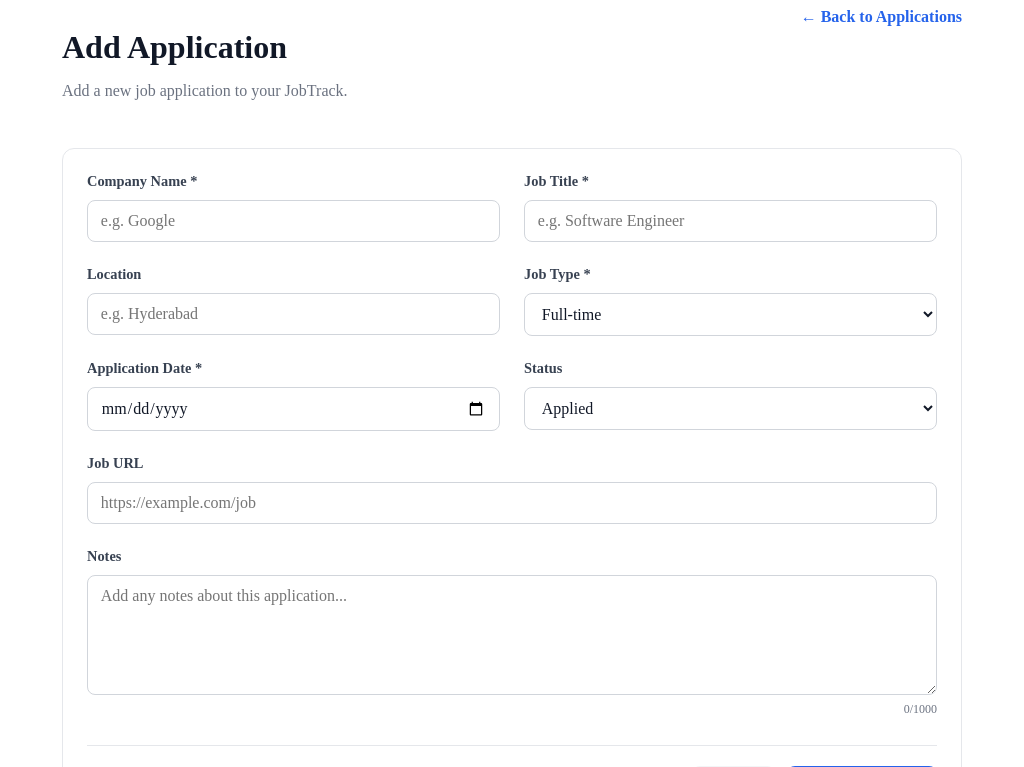
Test case: AddApplication page › validates the job URL format
Type "Example Corp" into the field labelled "Company Name *". click: (294, 221)
box: left=87, top=200, right=500, bottom=242
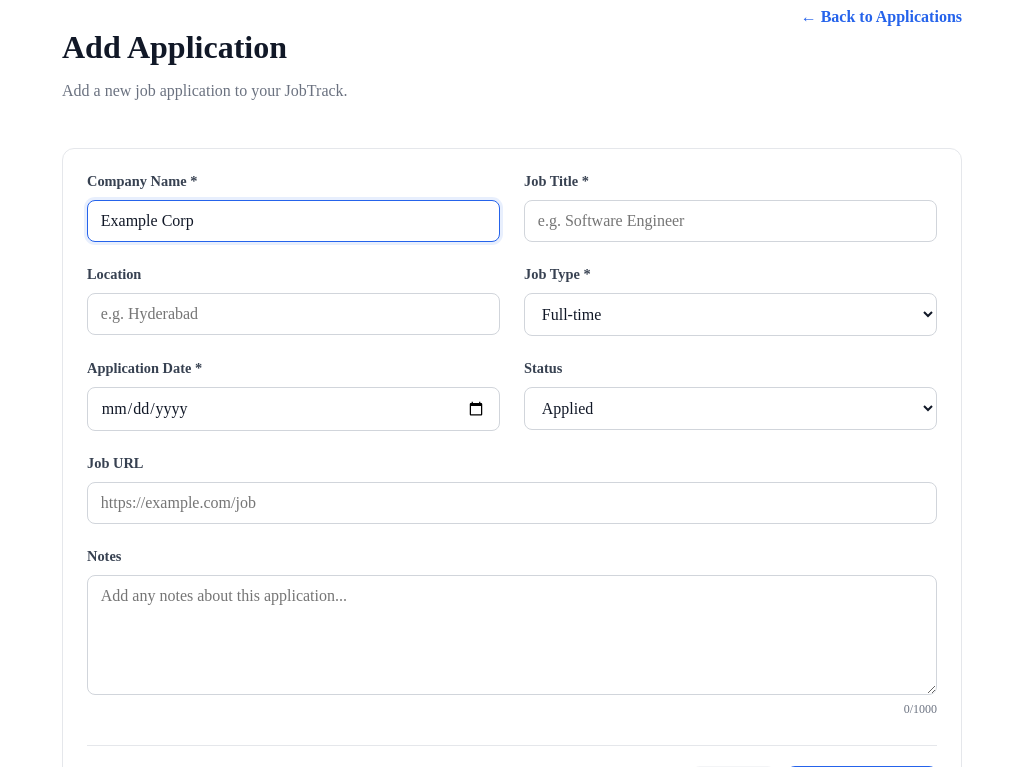
Type "Frontend Developer" into the field labelled "Job Title *". click: (730, 221)
box: left=524, top=200, right=937, bottom=242
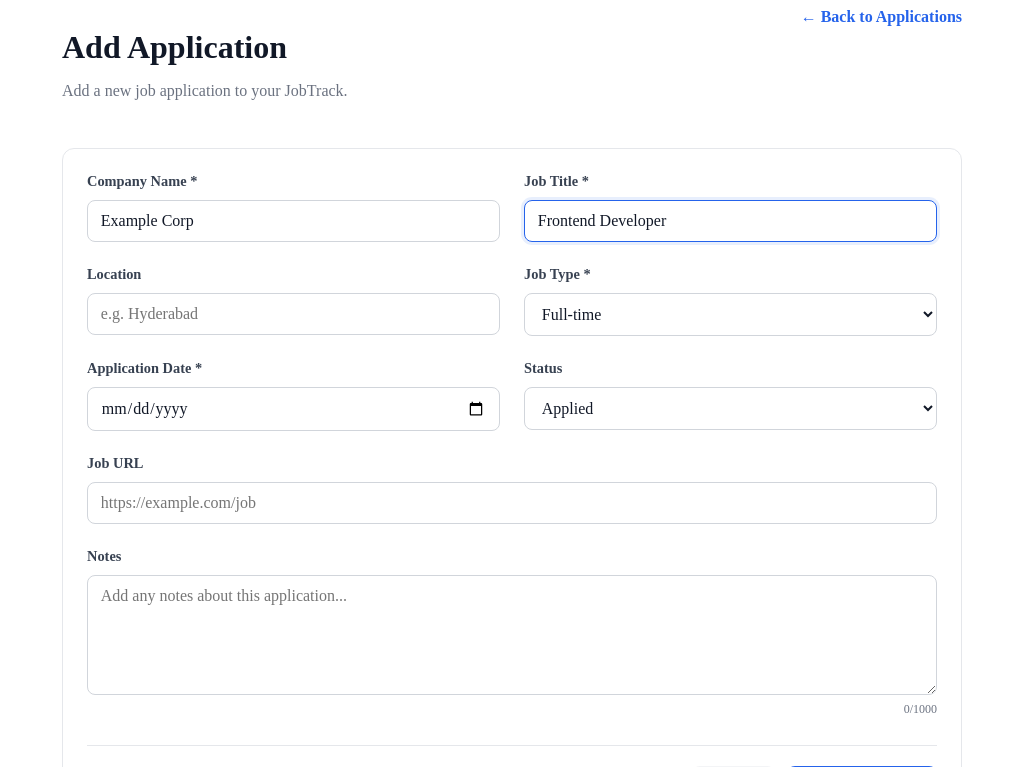
Type "2026-10-09" into the date field labelled "Application Date *". click: (294, 409)
box: left=87, top=387, right=500, bottom=431
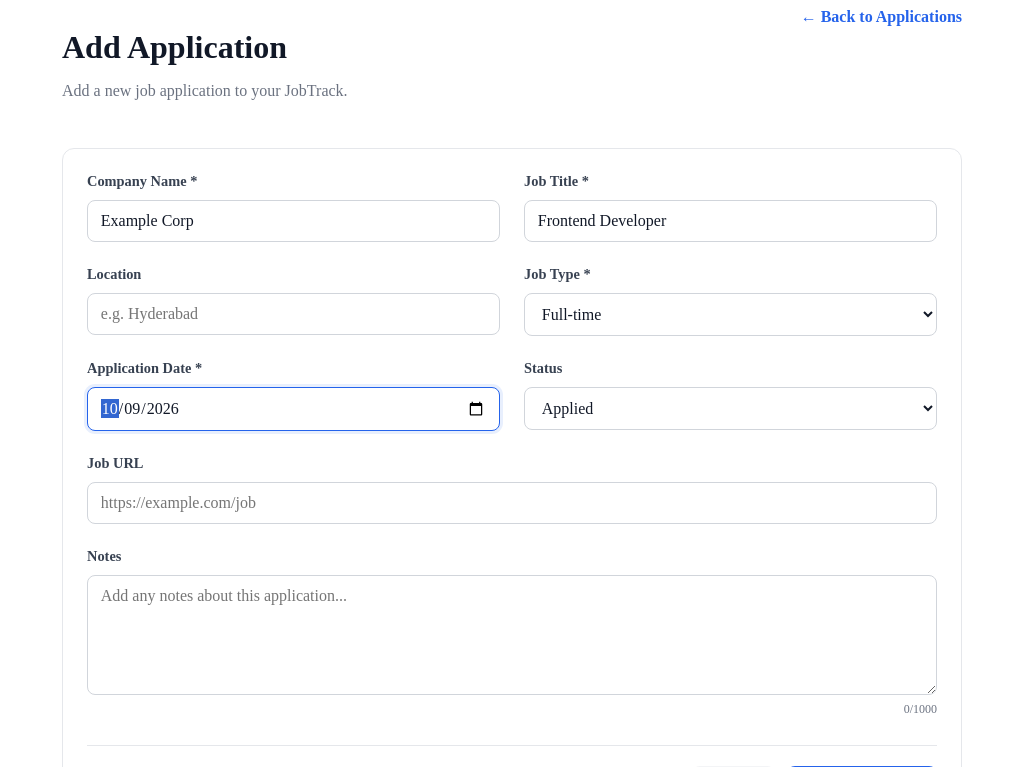
Type "example.com/job" into the field labelled "Job URL". click: (512, 503)
box: left=87, top=482, right=937, bottom=524
(page scrolled)
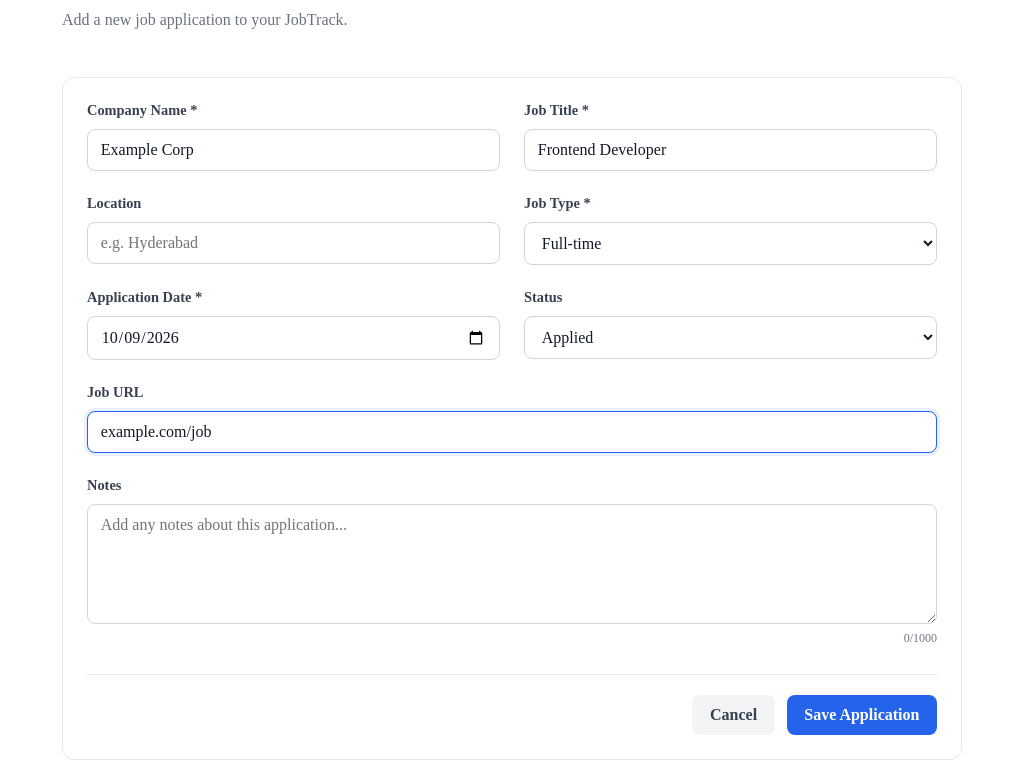
Click the button "Save Application". click: (862, 715)
box: left=787, top=695, right=937, bottom=736
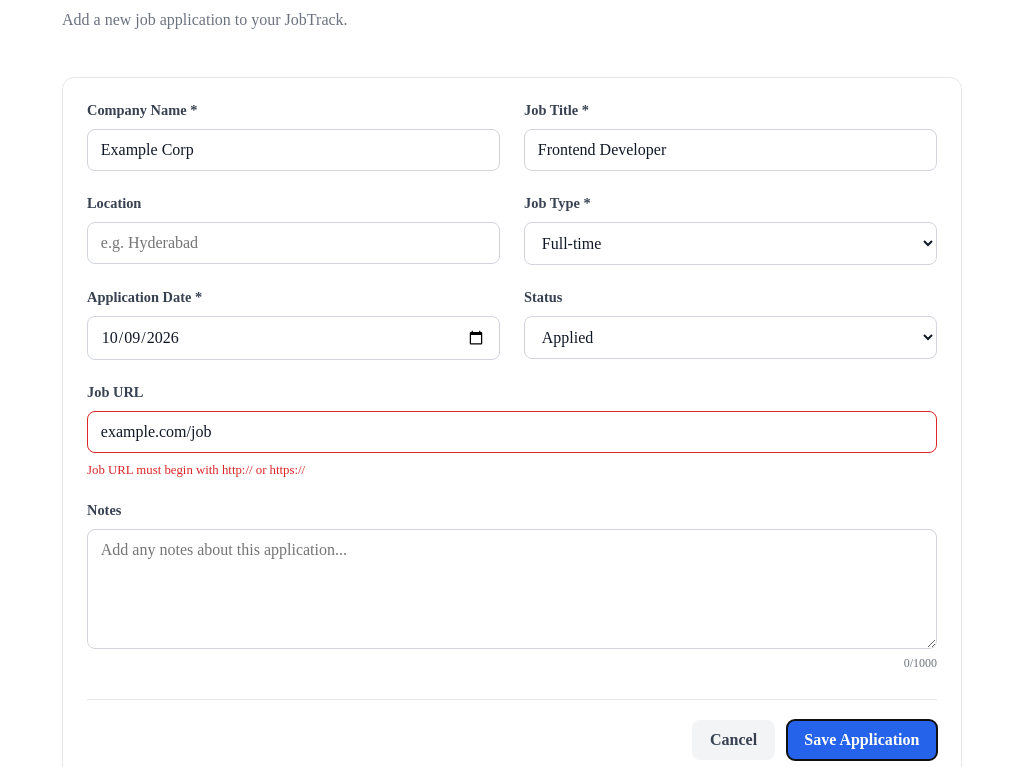
Now the text "Job URL must begin with http:// or https://" is shown, box left=87, top=463, right=305, bottom=477
